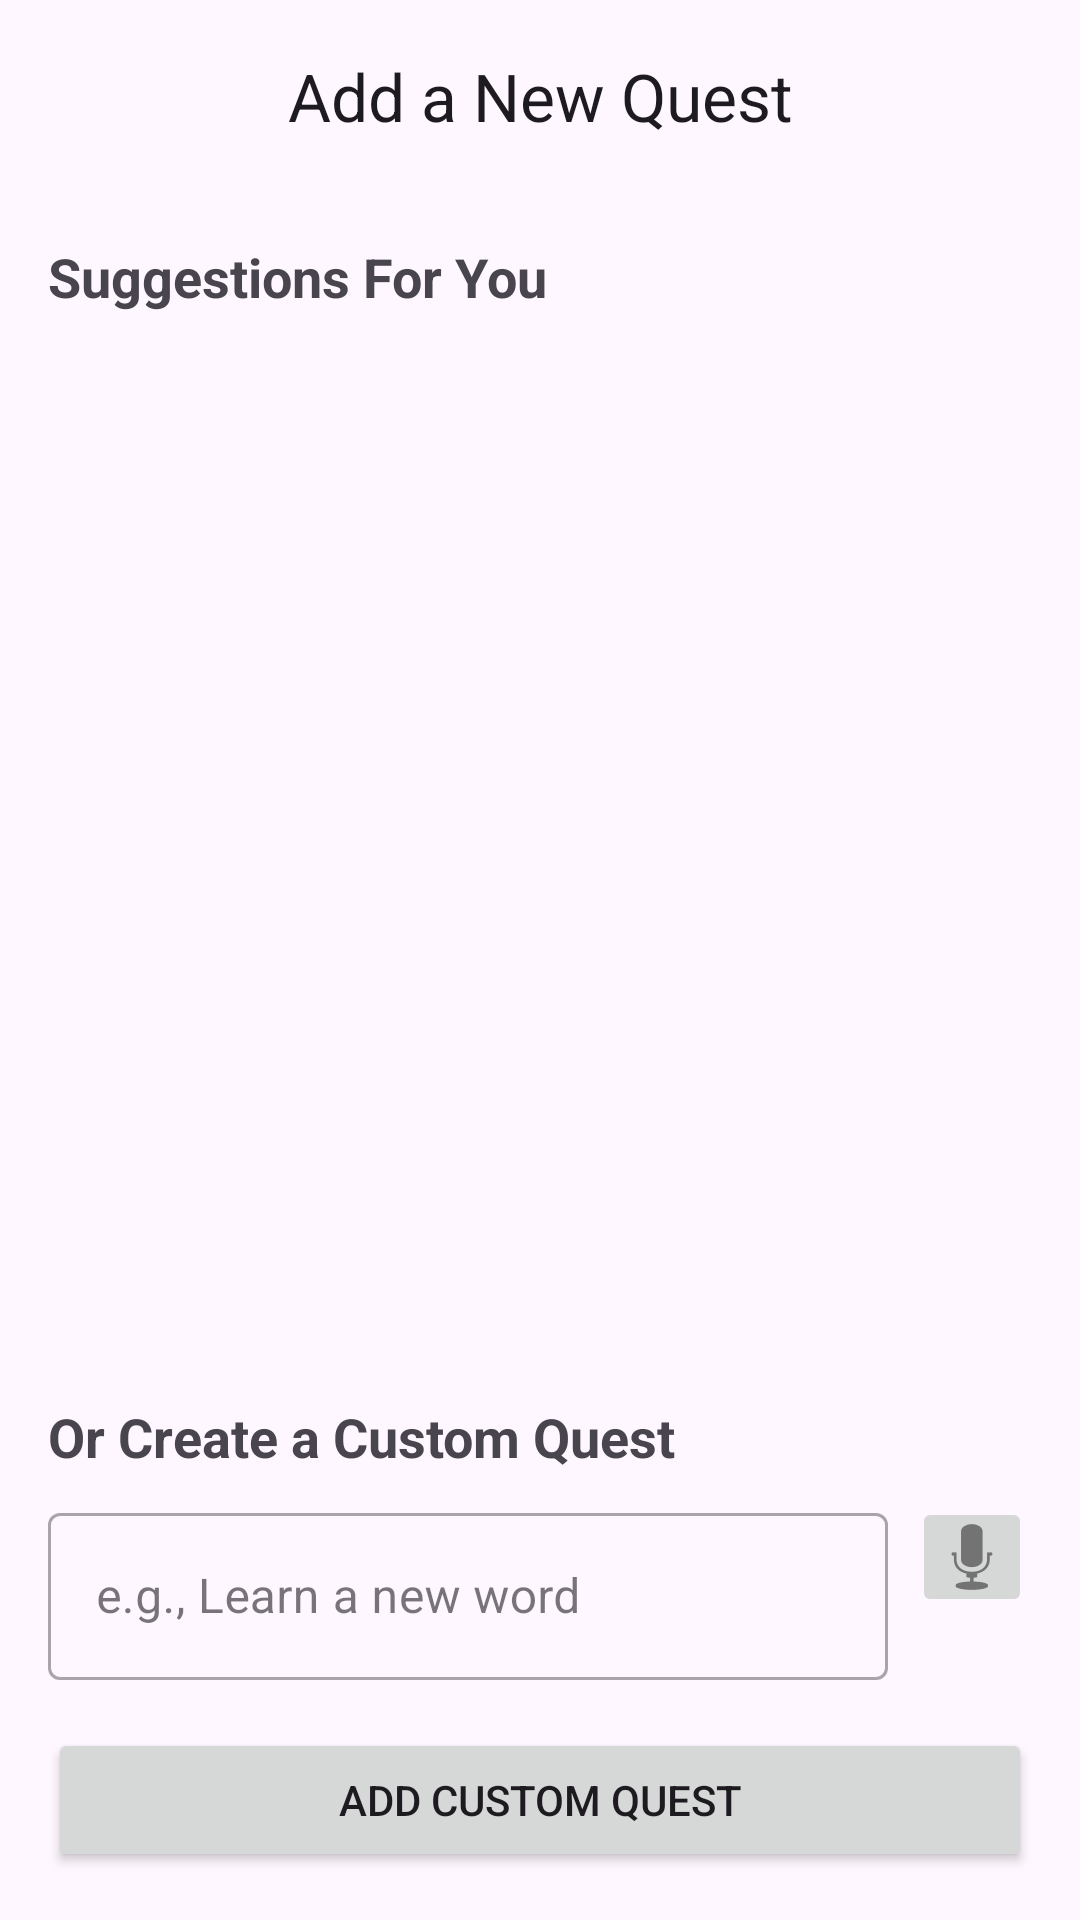

Icons on this 1080 x 1920 Android screen, each with its box as (x1, y1, x2, y2):
Voice: (924, 1515, 1020, 1599)
